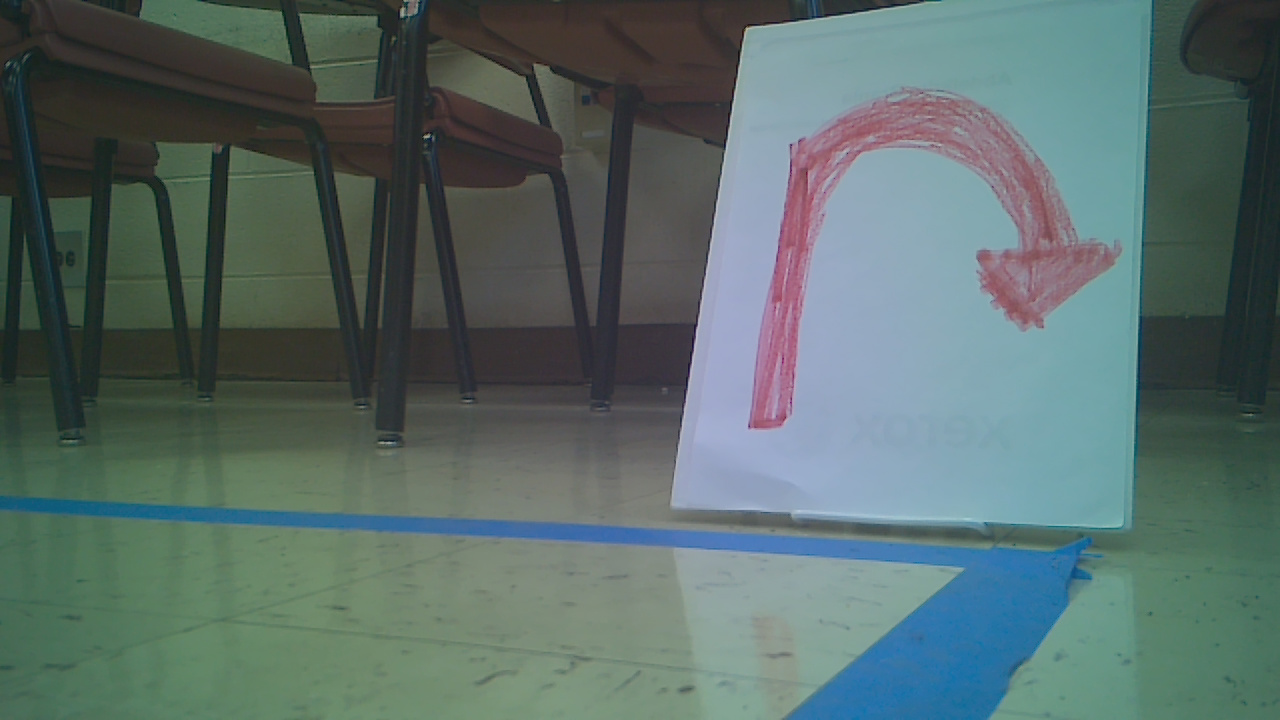uturn: (742, 81, 1151, 434)
